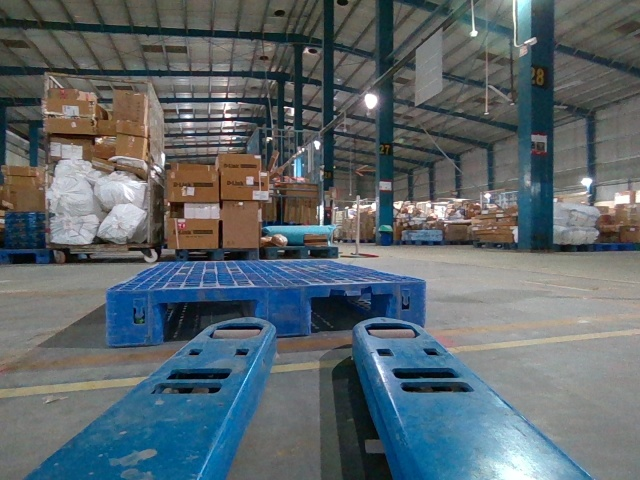block: (102, 287, 167, 349), (253, 286, 313, 337), (387, 281, 428, 331)
front: (106, 281, 426, 345)
hole pallet: (156, 293, 259, 345), (308, 289, 393, 336)
